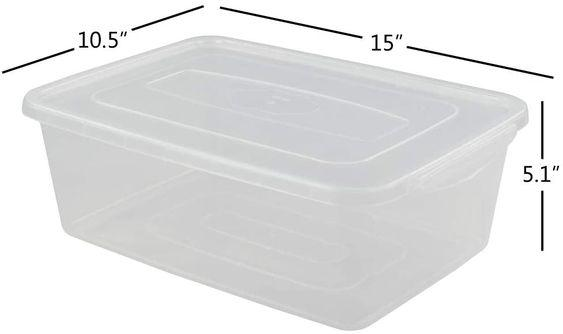PP: (0, 24, 563, 334)
